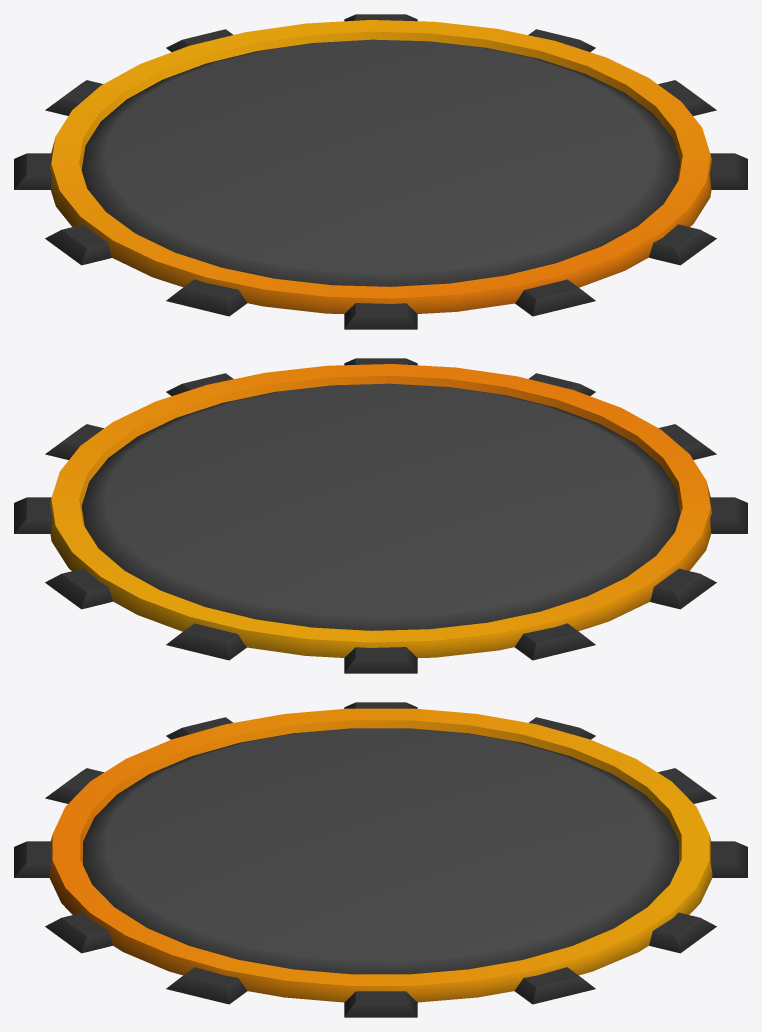
The model's file is Spawner.fbx.
The picture shows the model from 3 angles, top to bottom: view 1: azimuth 30°, elevation 25°; view 2: azimuth 150°, elevation 25°; view 3: azimuth 270°, elevation 25°; orthographic projection.
Parts seen in each view (by area): view 1: Spawner1; view 2: Spawner1; view 3: Spawner1.
Part boxes in pixels (x1,y1,x2,y2): Spawner1: (14,14,747,329); Spawner1: (14,358,747,673); Spawner1: (14,702,747,1017).
Size of the model in its own units: 4.47 by 0.124 by 4.47.
